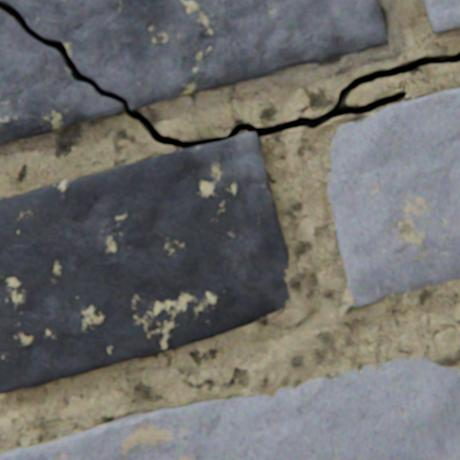brick: (0, 132, 289, 392), (0, 355, 459, 459), (327, 88, 459, 306), (422, 0, 459, 33)
broken_brick: (0, 0, 387, 109), (0, 8, 124, 142)
crack: (0, 1, 459, 148)
